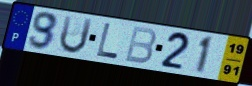1: (195, 35, 217, 77)
2: (158, 30, 194, 75)
9: (27, 11, 61, 51)
B: (123, 25, 158, 66)
L: (95, 21, 120, 61)
U: (57, 14, 95, 56)
